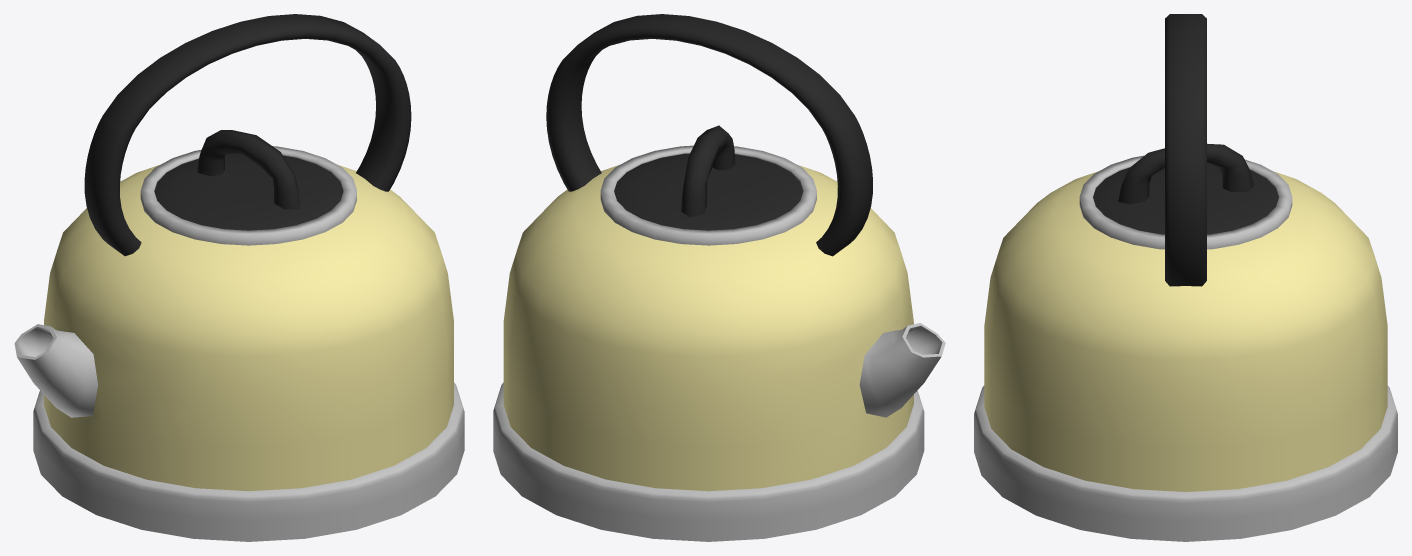
Rendered from TeaKettle.fbx.
The picture shows the model from 3 angles, left to right: view 1: azimuth 30°, elevation 25°; view 2: azimuth 150°, elevation 25°; view 3: azimuth 270°, elevation 25°; orthographic projection.
Parts seen in each view (by area): view 1: Kettle, Lit, Handle; view 2: Kettle, Lit, Handle; view 3: Kettle, Lit, Handle.
Part boxes in pixels (box(x1,y1,x2,y2)): Kettle: box(14, 165, 464, 541); Lit: box(140, 130, 356, 245); Handle: box(84, 14, 411, 256); Kettle: box(493, 165, 945, 541); Lit: box(600, 125, 816, 245); Handle: box(546, 14, 872, 256); Kettle: box(974, 171, 1397, 541); Lit: box(1079, 143, 1292, 249); Handle: box(1165, 14, 1206, 286).
Bounding box in the file's own units: 47.92 × 46.23 × 42.68.
